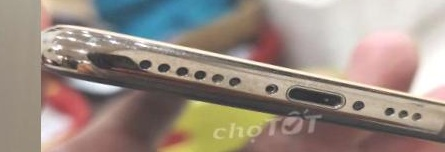scratch: (248, 52, 346, 106), (106, 25, 207, 72), (50, 29, 98, 53), (398, 91, 432, 113), (64, 52, 92, 70)
